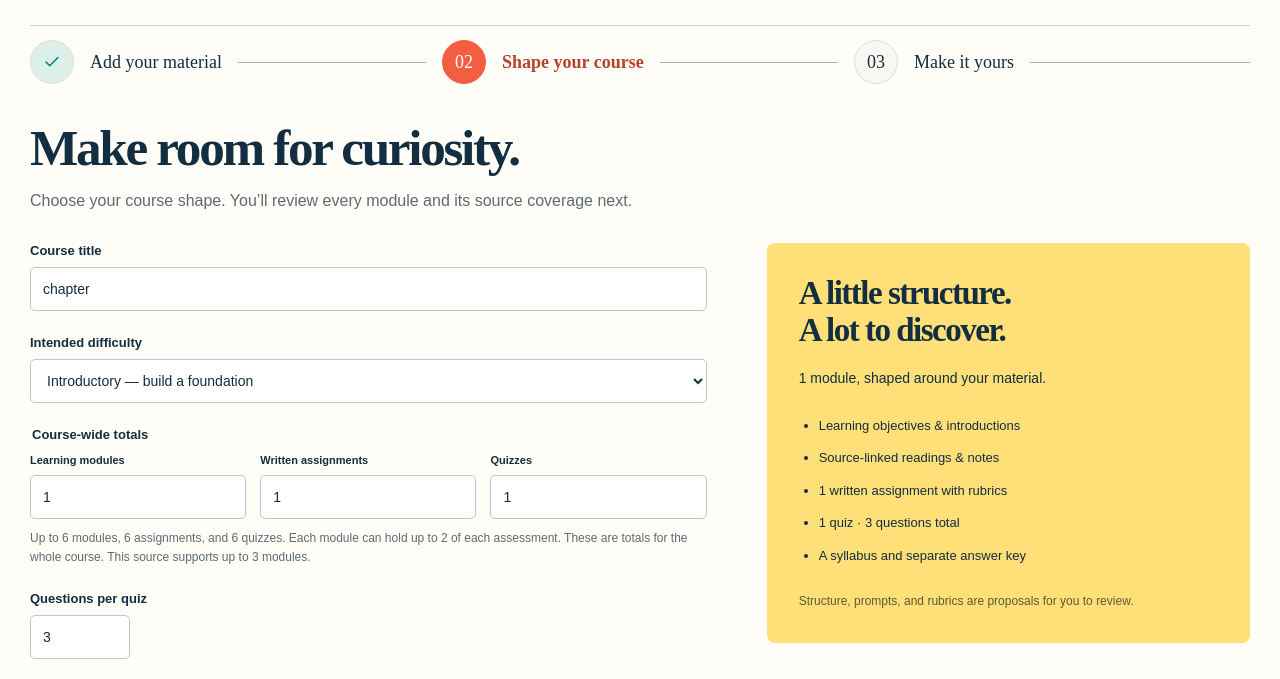
complete course workflow › sends the chosen course-wide counts and bounds assessments when module count shrinks
The width and height of the screenshot is (1280, 679).
Replace the text in the number field labelled "Learning modules" with "3": (138, 497) [30,475,246,519]
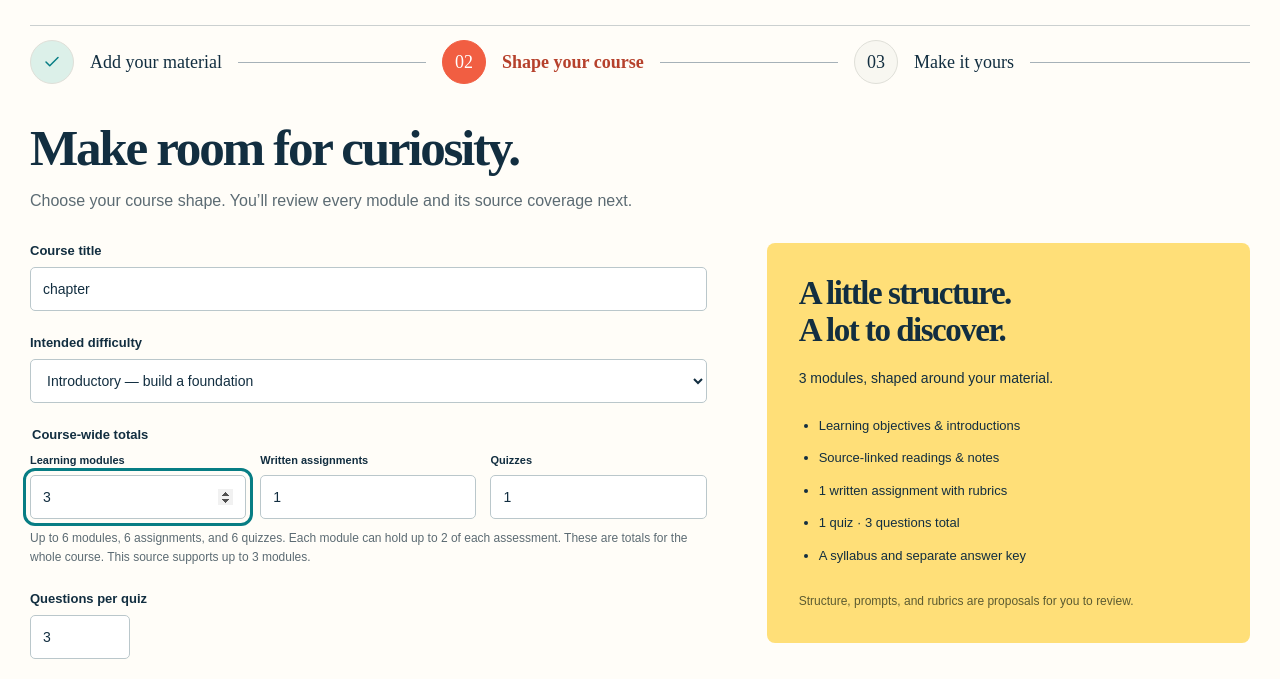
Replace the text in the number field labelled "Written assignments" with "5": (368, 497) [260,475,476,519]
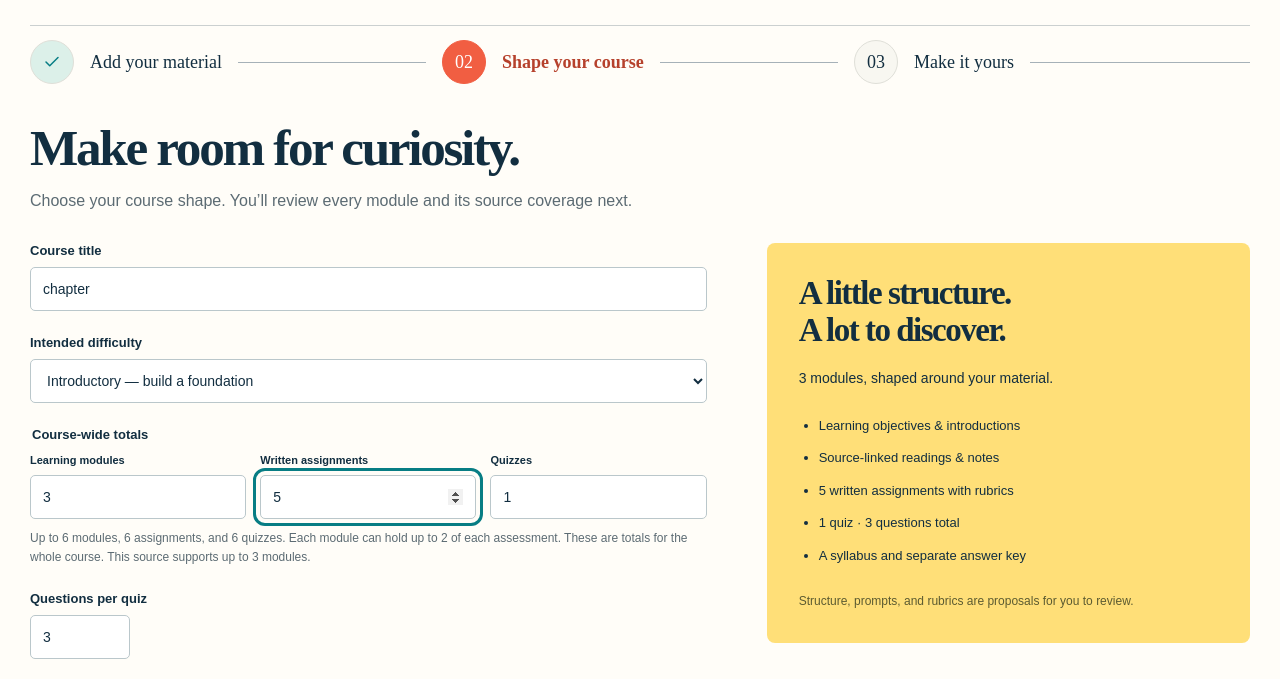
Replace the text in the number field labelled "Quizzes" with "4": (598, 497) [490,475,707,519]
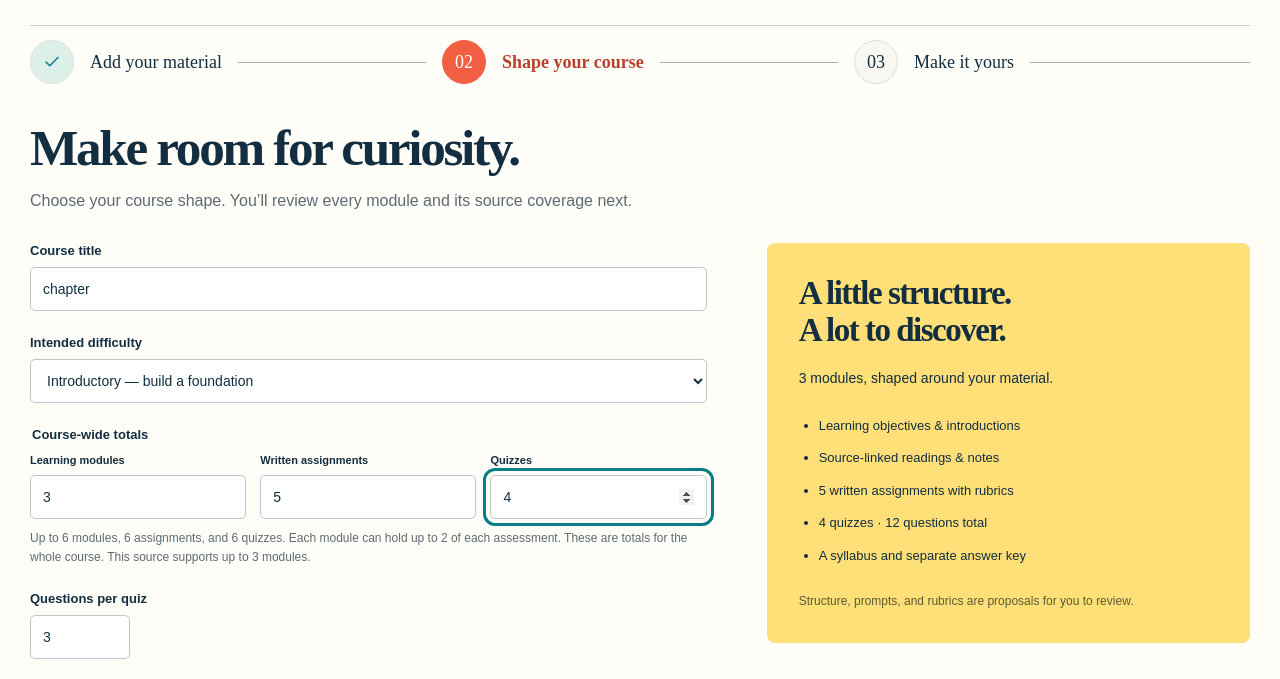
Replace the text in the number field labelled "Questions per quiz" with "5": (80, 637) [30,615,130,659]
(page scrolled)
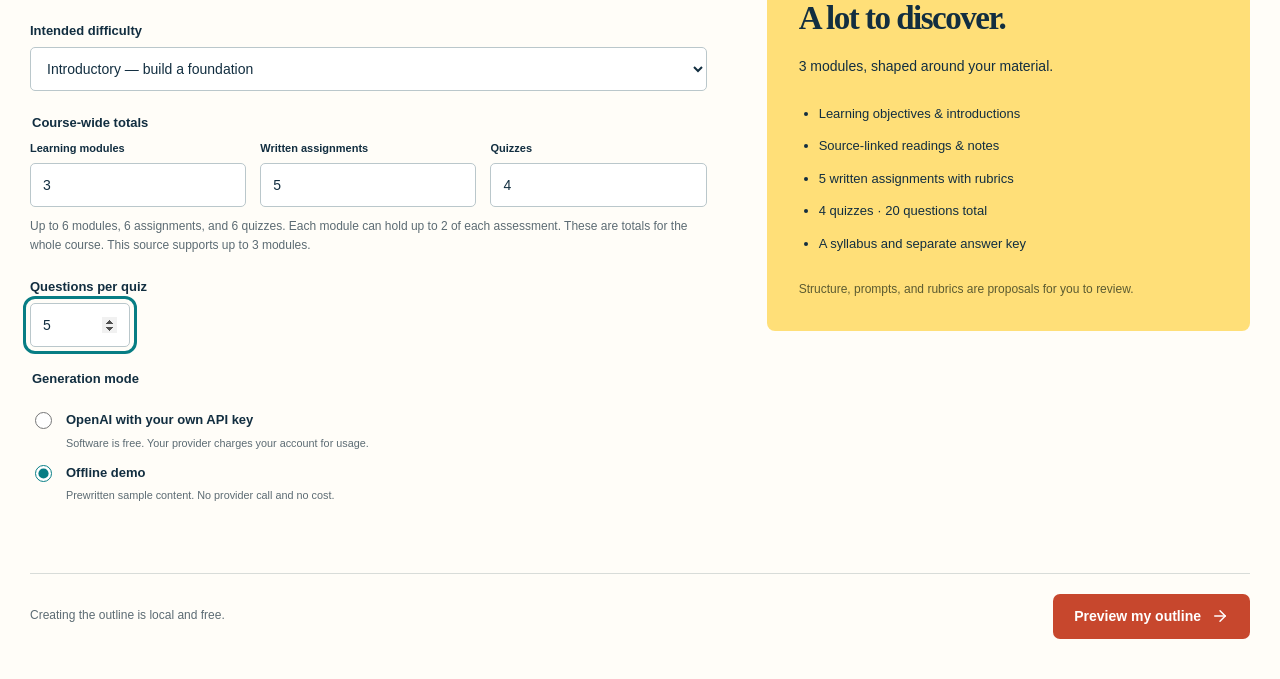
Click the button "Preview my outline": (1152, 616) [1053,594,1250,639]
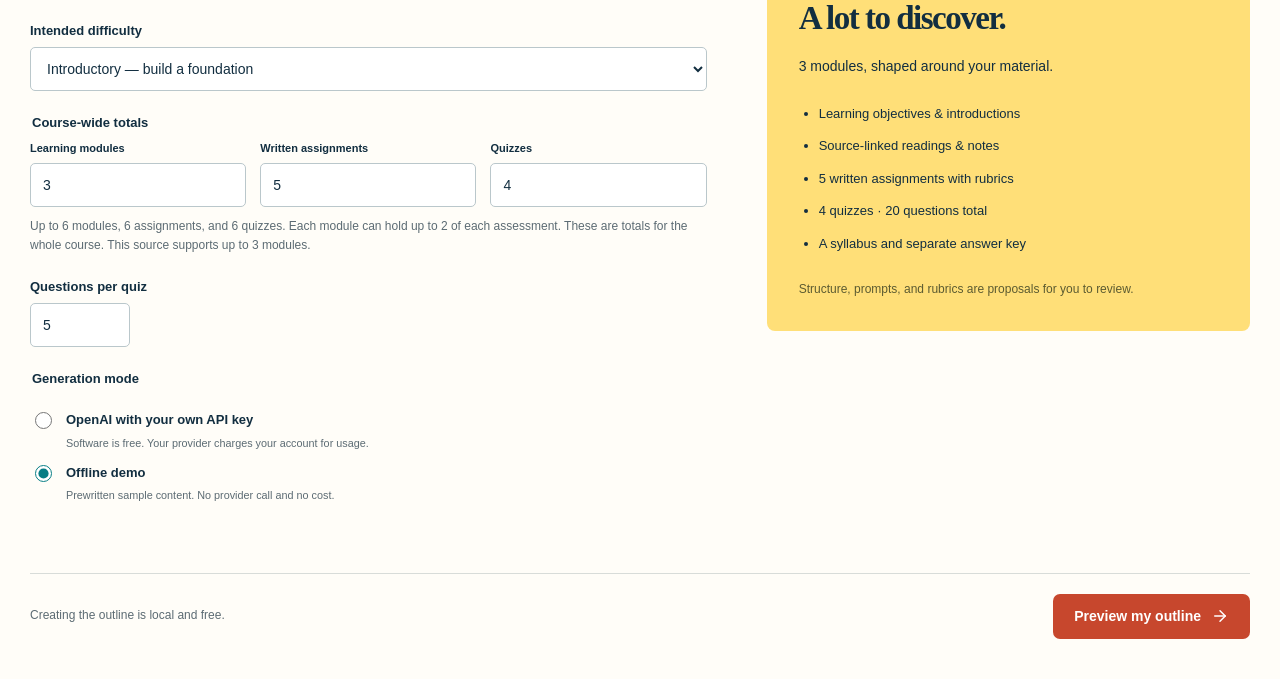
Replace the text in the number field labelled "Learning modules" with "1": (138, 185) [30,163,246,207]
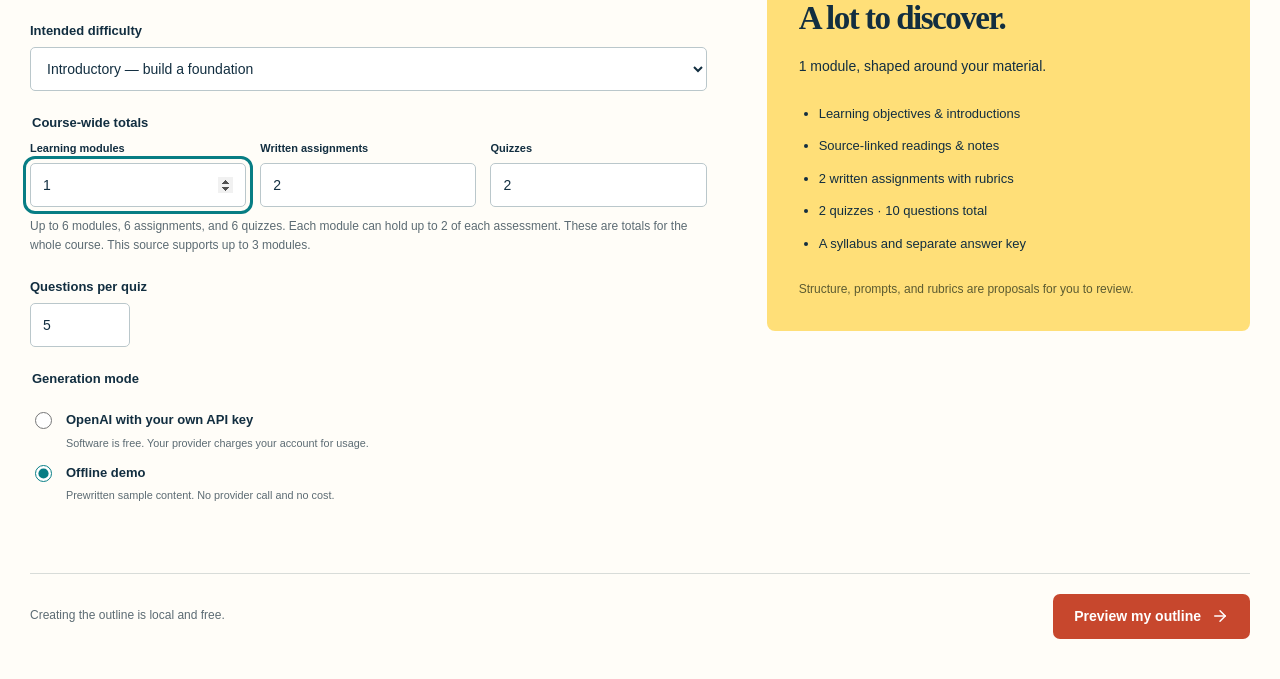
Result: the number field labelled "Written assignments" holds "2" at [260,163,476,207]
Result: the number field labelled "Quizzes" holds "2" at [490,163,707,207]
